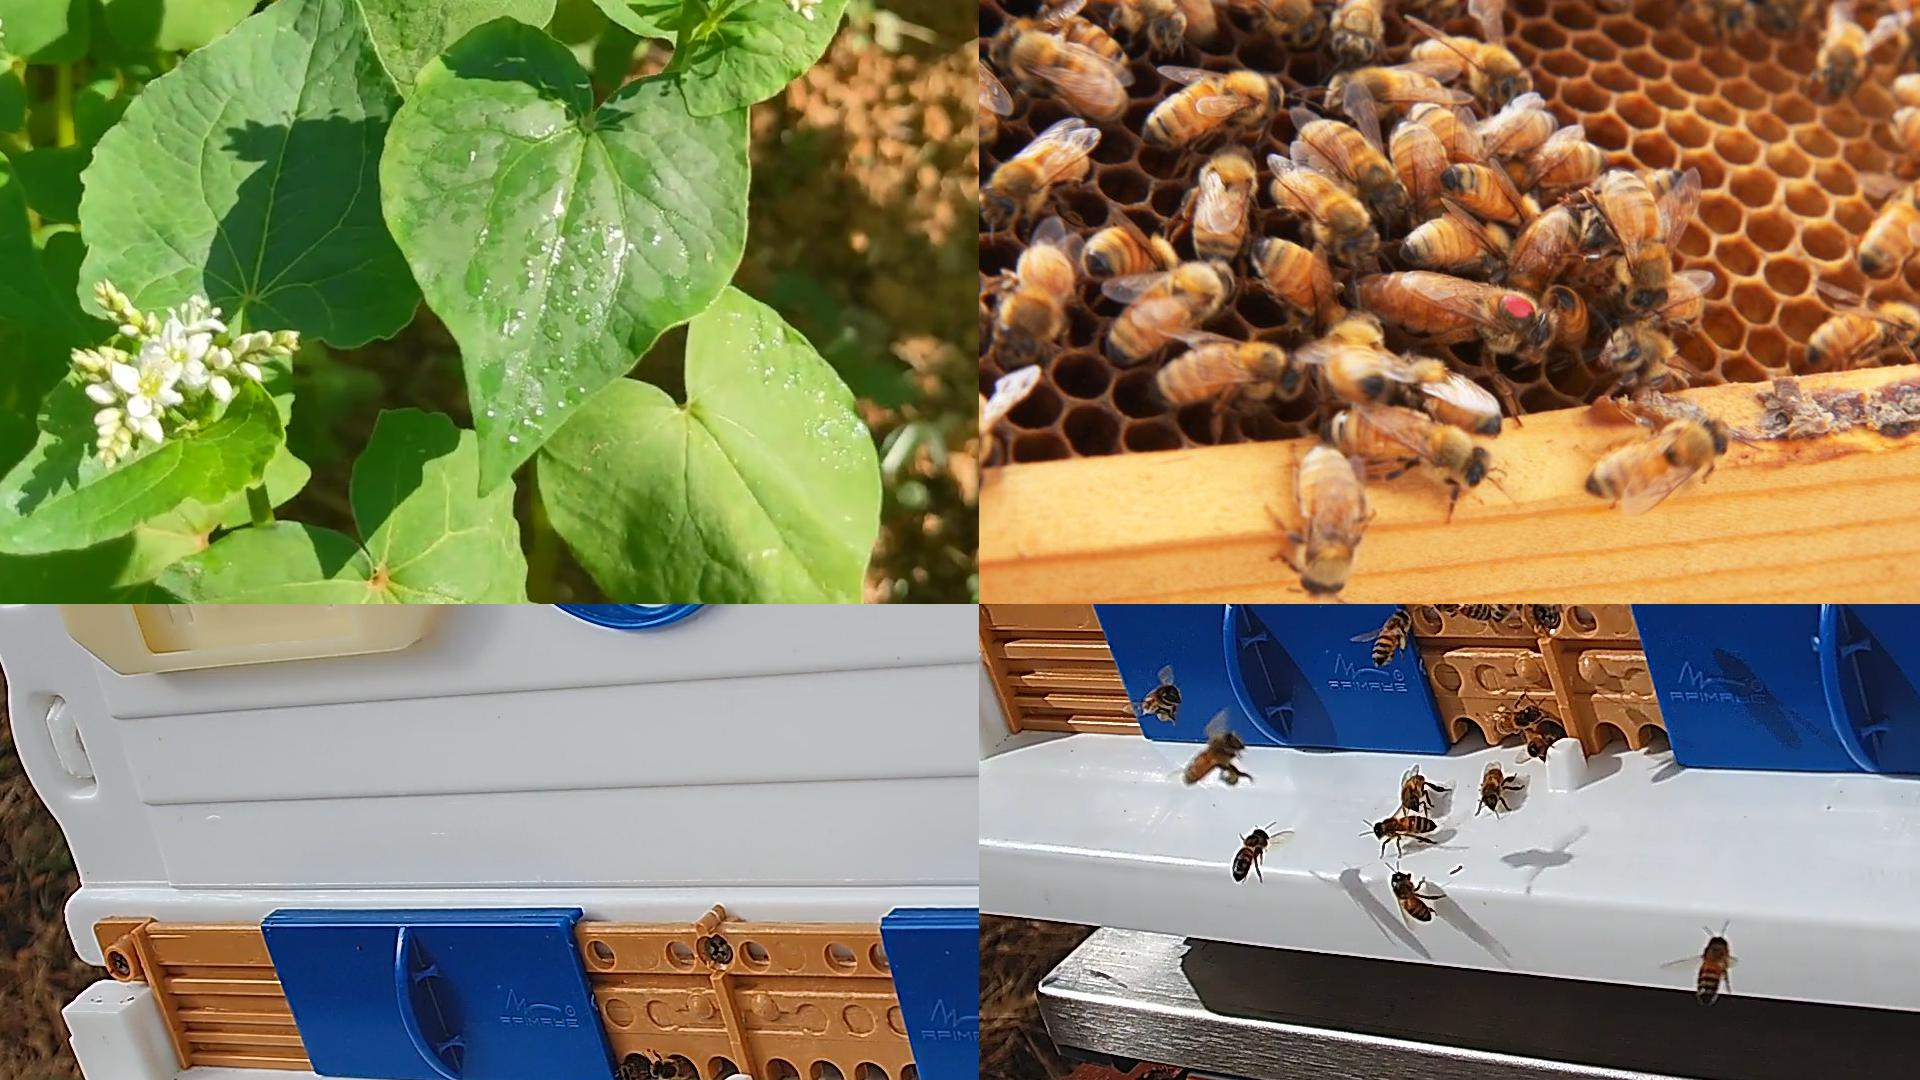bee: (1106, 261, 1234, 368), (1324, 411, 1495, 487), (990, 28, 1125, 121), (1141, 67, 1283, 145), (1589, 422, 1727, 500), (1270, 169, 1378, 264), (1296, 119, 1406, 211), (1601, 171, 1668, 305), (1153, 343, 1299, 404), (980, 141, 1089, 222), (998, 244, 1073, 360), (1302, 447, 1357, 596), (1805, 302, 1919, 373), (1251, 239, 1341, 327), (1412, 34, 1538, 95), (1192, 144, 1254, 265), (1395, 361, 1499, 433), (1514, 198, 1586, 289), (1389, 120, 1451, 225), (1328, 70, 1453, 115), (1065, 0, 1187, 46), (1084, 227, 1182, 282), (1033, 12, 1127, 69), (1865, 175, 1919, 273), (1511, 142, 1607, 196), (1590, 166, 1680, 224), (1211, 0, 1323, 44), (1601, 282, 1706, 328), (1408, 103, 1480, 167), (1600, 330, 1680, 386), (1331, 316, 1383, 402), (1470, 109, 1563, 156), (1402, 228, 1511, 266), (1639, 0, 1751, 37), (1818, 22, 1866, 98), (1333, 0, 1385, 59), (1149, 0, 1217, 41), (1547, 285, 1589, 349), (978, 25, 998, 154), (1894, 107, 1919, 203), (1884, 0, 1919, 65), (1390, 873, 1433, 923), (978, 386, 998, 495), (1698, 938, 1731, 1002), (1233, 828, 1271, 881), (1774, 0, 1833, 26), (1892, 75, 1919, 127), (1373, 816, 1437, 835), (1494, 707, 1539, 732), (1433, 604, 1493, 622), (1528, 729, 1564, 758), (1487, 604, 1540, 622), (651, 1055, 692, 1079), (1399, 774, 1425, 807), (613, 1055, 649, 1079), (1481, 770, 1502, 810), (1571, 0, 1635, 11)
pollenbee: (1182, 732, 1244, 786), (1370, 608, 1415, 665), (1138, 682, 1184, 724)
queen: (1348, 273, 1555, 361)
